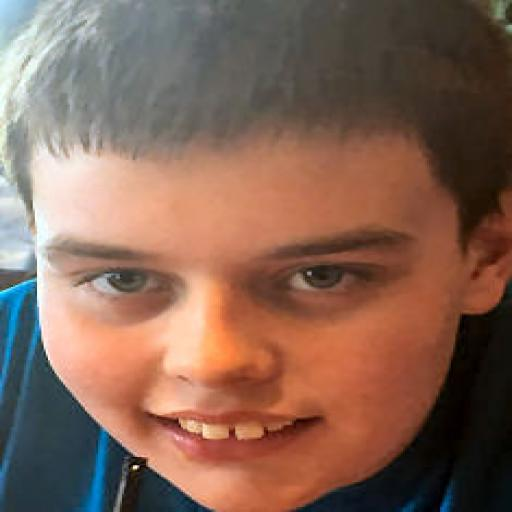Autism: (2, 6, 512, 512)
